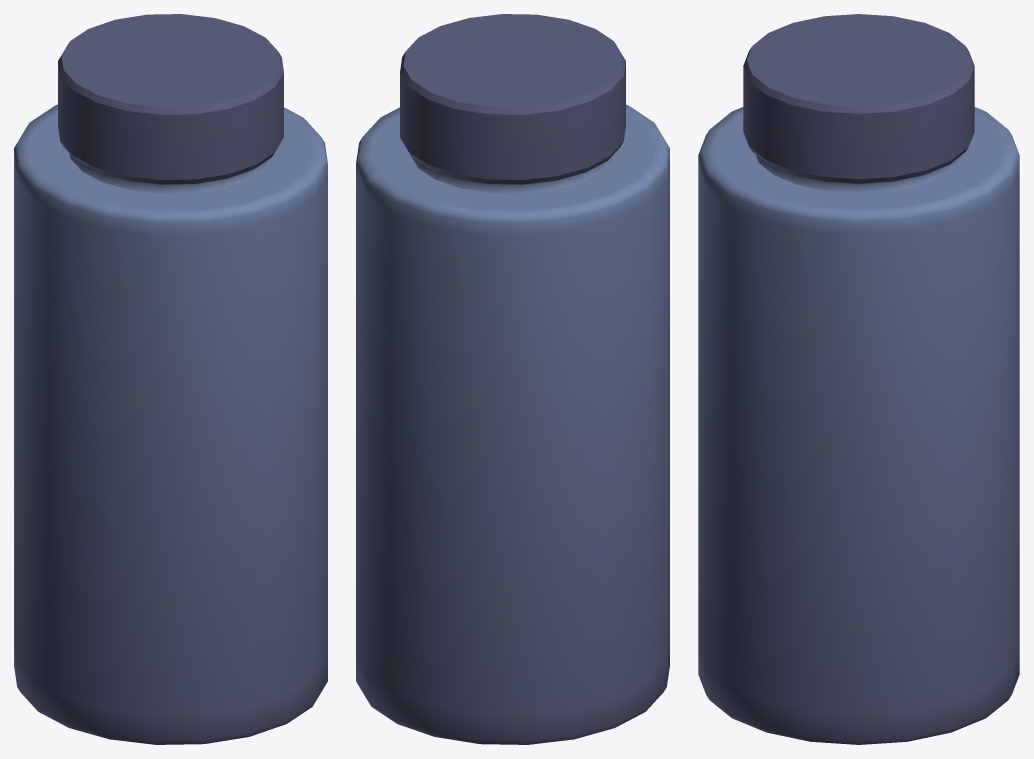
File: bottle_flat_darkBlue.fbx
3 renders of one model, left to right at view 1: azimuth 30°, elevation 25°; view 2: azimuth 150°, elevation 25°; view 3: azimuth 270°, elevation 25°, orthographic.
Visible parts, largest first — view 1: bottle_flat_darkBlue; view 2: bottle_flat_darkBlue; view 3: bottle_flat_darkBlue.
Boxes of the visible parts, x1,y1,x2,y2 form: bottle_flat_darkBlue: [14, 14, 327, 744]; bottle_flat_darkBlue: [356, 14, 669, 744]; bottle_flat_darkBlue: [698, 14, 1019, 744].
Size of the model in its own units: 107 by 234 by 110.
